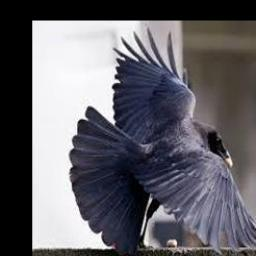Crow: (70, 31, 256, 256)
